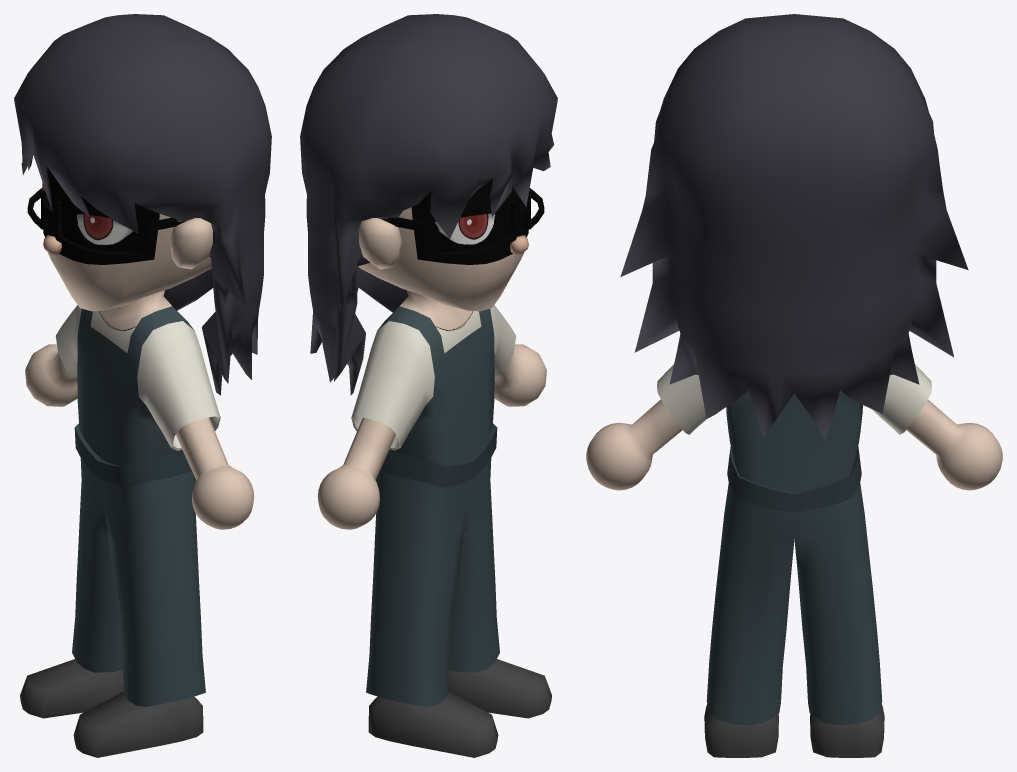
Rendered from Val_Fixed.fbx.
3 renders of one model, left to right at view 1: azimuth 30°, elevation 25°; view 2: azimuth 150°, elevation 25°; view 3: azimuth 270°, elevation 25°, orthographic. The views are drawn at different scales.
Visible parts, largest first — view 1: Val, Eyes Card.002; view 2: Val, Eyes Card.002; view 3: Val.
Boxes of the visible parts, <box> form: Val: <box>14,14,271,757</box>; Eyes Card.002: <box>42,166,159,264</box>; Val: <box>300,14,557,757</box>; Eyes Card.002: <box>411,178,529,264</box>; Val: <box>586,14,1002,757</box>.
Size of the model in its own units: 0.9973 by 1.65 by 3.12.
2 materials, 2 textured.
